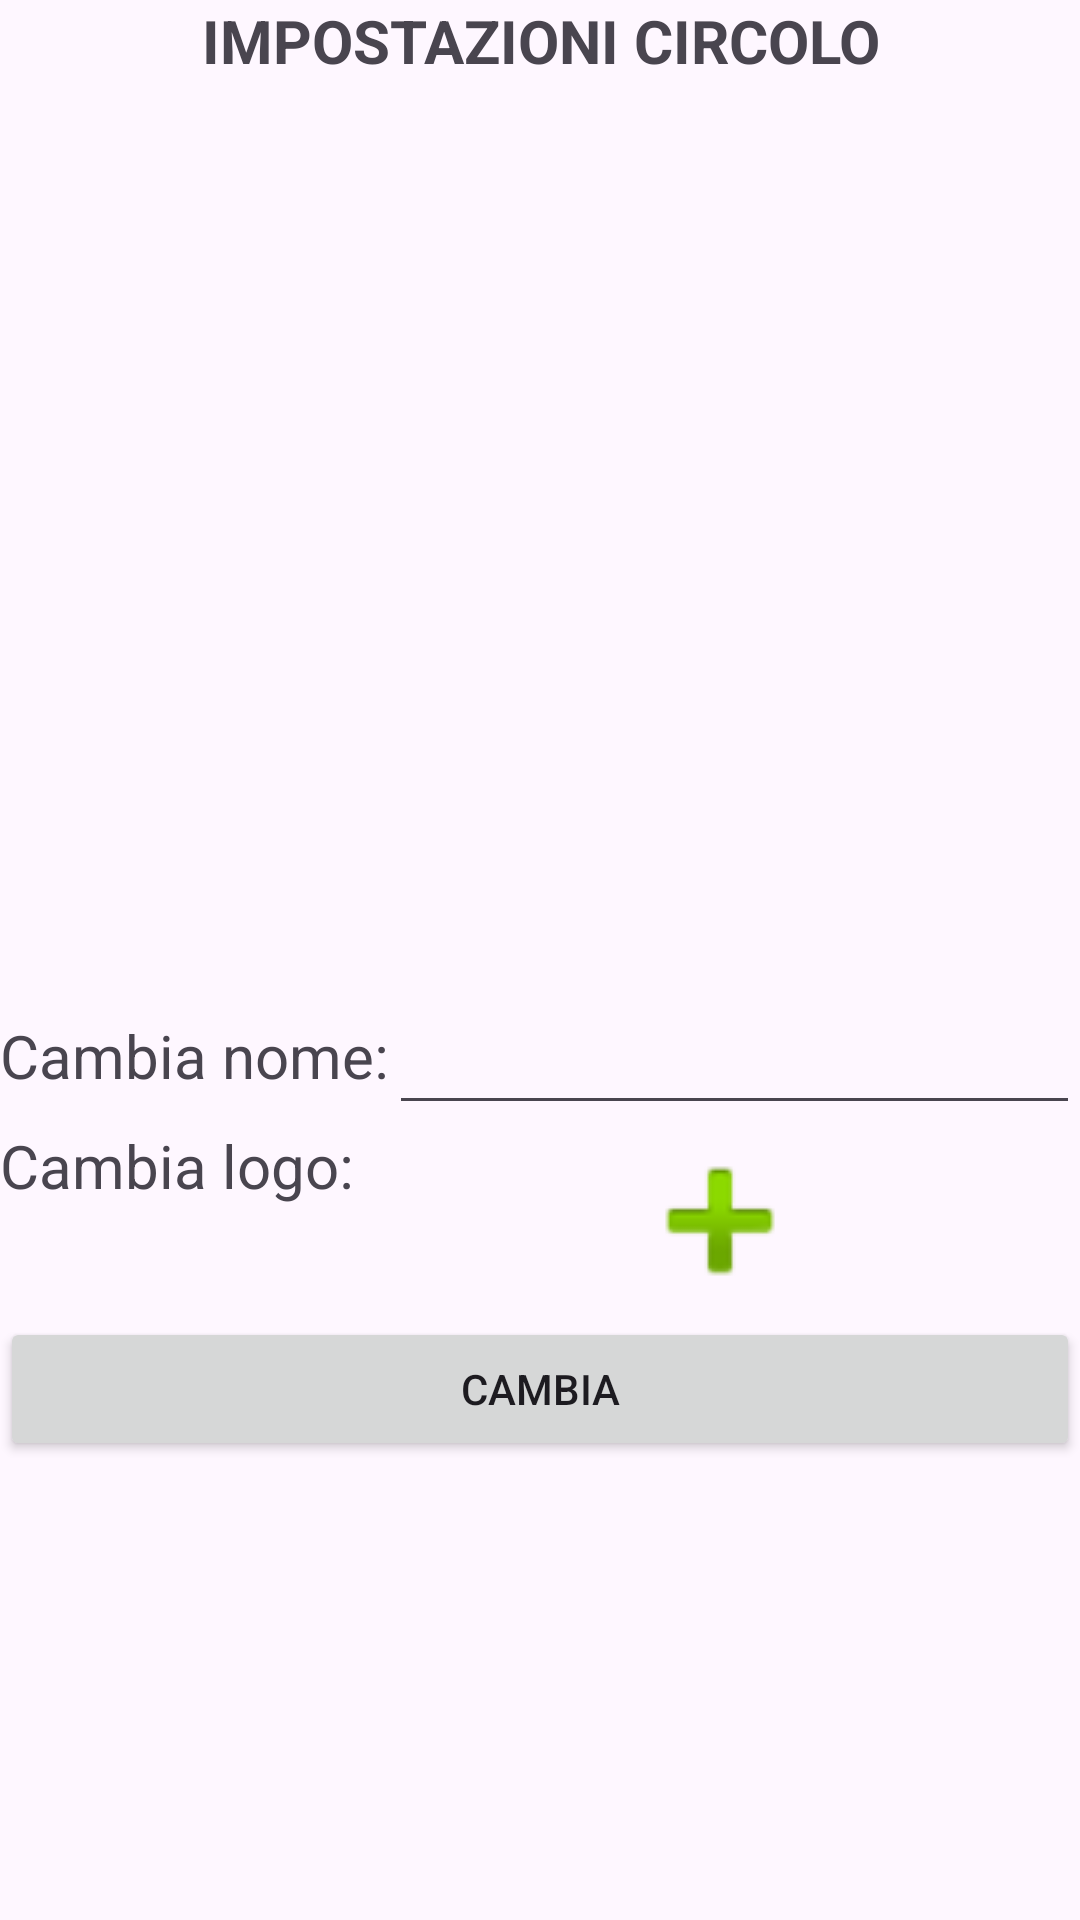

Screen size 1080 x 1920. Icon name, then its box in pixels as (x1, y1, x2, y2):
add: (665, 1166, 775, 1275)
